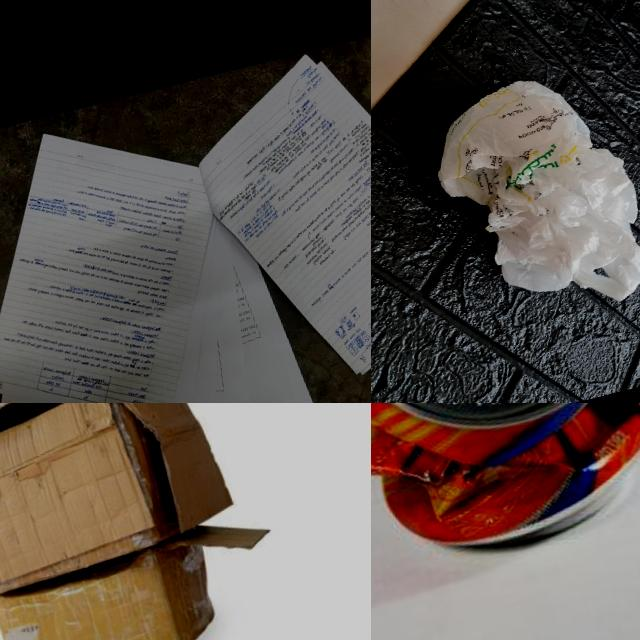lata: (371, 403, 640, 585)
papel: (0, 18, 371, 403)
papelão: (0, 403, 242, 609), (0, 506, 293, 640), (0, 403, 116, 457)
sacola plástica: (418, 56, 640, 337)
